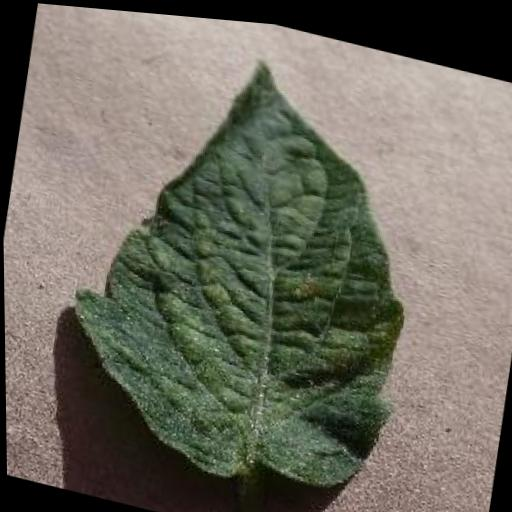Spider Mites: (49, 15, 439, 512)
